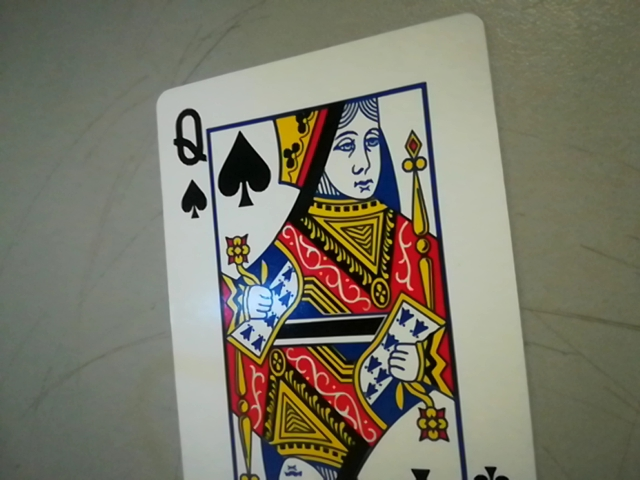ht q: (163, 101, 215, 220)
